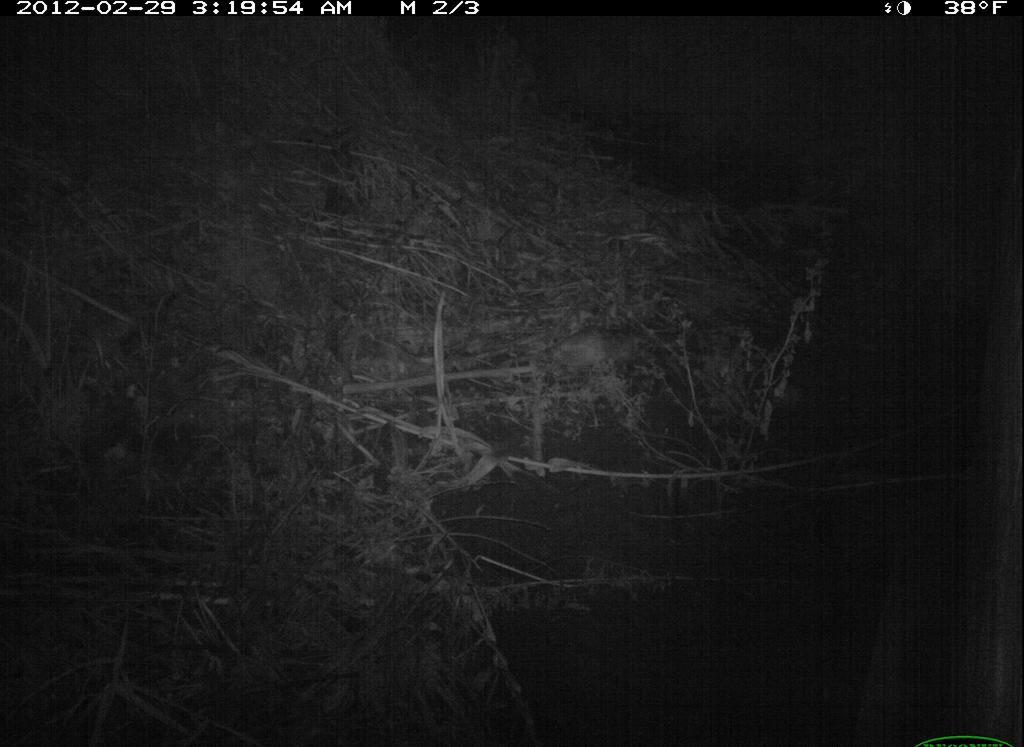opossum: (507, 303, 696, 400)
